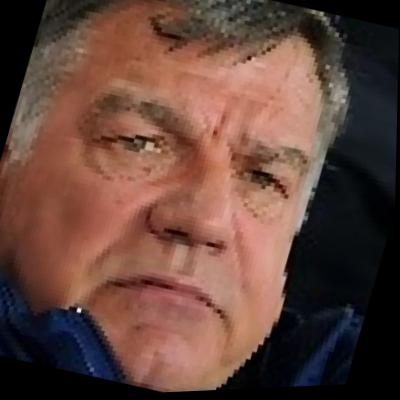angry: (2, 0, 361, 400)
